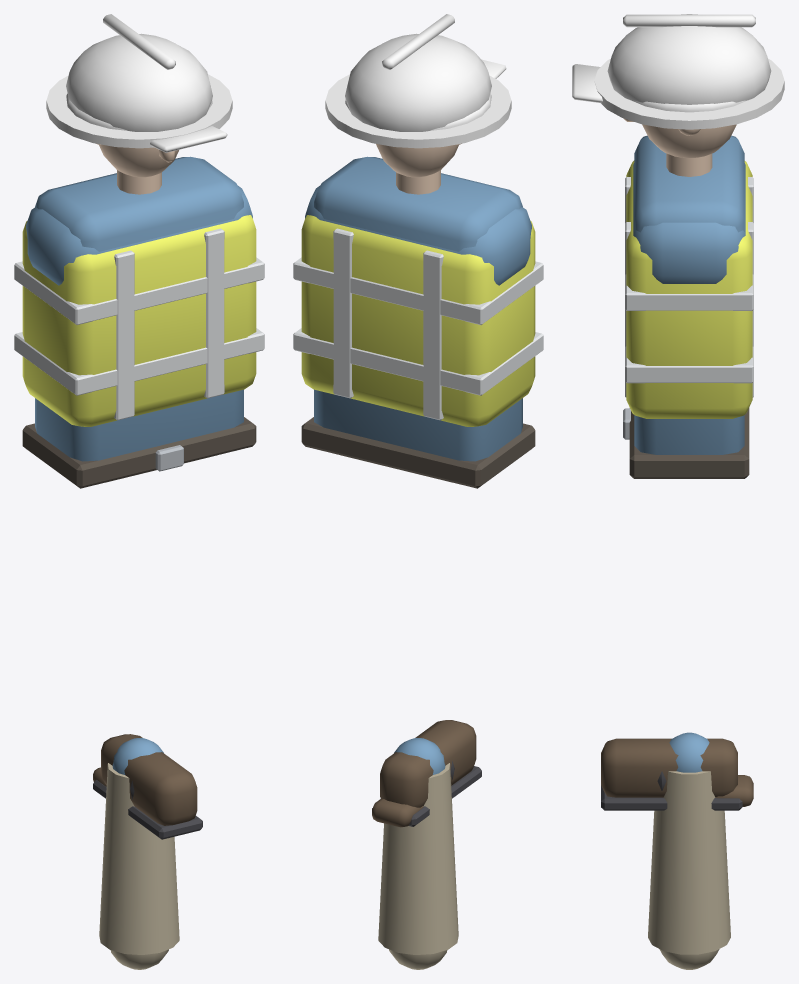
The model's file is human_parts.glb.
3 views of the same model, side by side, from view 1: azimuth 30°, elevation 25°; view 2: azimuth 150°, elevation 25°; view 3: azimuth 270°, elevation 25° (orthographic). The views are drawn at different scales.
Parts seen in each view (by area): view 1: vest_vest, torso_shirt, hat_hat, stripe_stripe, thigh_pants, belt_belt, boot_boot, head_skin, sole_dark, upperarm_shirt, neck_skin, buckle_dark; view 2: vest_vest, torso_shirt, hat_hat, stripe_stripe, thigh_pants, belt_belt, boot_boot, head_skin, upperarm_shirt, neck_skin, sole_dark; view 3: hat_hat, torso_shirt, vest_vest, thigh_pants, boot_boot, stripe_stripe, belt_belt, head_skin, sole_dark, upperarm_shirt, neck_skin.
Boxes of the visible parts, x1=… form: vest_vest: x1=22, y1=215, x2=256, y2=426; torso_shirt: x1=26, y1=156, x2=252, y2=461; hat_hat: x1=46, y1=14, x2=232, y2=152; stripe_stripe: x1=14, y1=228, x2=264, y2=420; thigh_pants: x1=99, y1=763, x2=179, y2=969; belt_belt: x1=22, y1=417, x2=256, y2=488; boot_boot: x1=93, y1=734, x2=197, y2=825; head_skin: x1=96, y1=143, x2=178, y2=177; sole_dark: x1=93, y1=780, x2=202, y2=839; upperarm_shirt: x1=112, y1=738, x2=163, y2=774; neck_skin: x1=117, y1=170, x2=161, y2=194; buckle_dark: x1=155, y1=445, x2=183, y2=471; vest_vest: x1=301, y1=215, x2=535, y2=426; torso_shirt: x1=305, y1=156, x2=531, y2=461; hat_hat: x1=325, y1=14, x2=511, y2=148; stripe_stripe: x1=293, y1=228, x2=543, y2=420; thigh_pants: x1=378, y1=763, x2=458, y2=969; belt_belt: x1=301, y1=417, x2=535, y2=488; boot_boot: x1=372, y1=720, x2=476, y2=827; head_skin: x1=376, y1=143, x2=461, y2=177; upperarm_shirt: x1=394, y1=738, x2=445, y2=774; neck_skin: x1=396, y1=170, x2=440, y2=194; sole_dark: x1=372, y1=766, x2=481, y2=826; hat_hat: x1=572, y1=14, x2=784, y2=129; torso_shirt: x1=633, y1=135, x2=745, y2=454; vest_vest: x1=626, y1=160, x2=752, y2=418; thigh_pants: x1=648, y1=771, x2=730, y2=969; boot_boot: x1=601, y1=738, x2=753, y2=806; stripe_stripe: x1=625, y1=177, x2=753, y2=397; belt_belt: x1=629, y1=408, x2=749, y2=478; head_skin: x1=642, y1=124, x2=736, y2=157; sole_dark: x1=601, y1=785, x2=742, y2=810; upperarm_shirt: x1=669, y1=732, x2=709, y2=772; neck_skin: x1=666, y1=153, x2=712, y2=176.
Bounding box in the file's own units: 0.52 × 2.37 × 0.4796.
